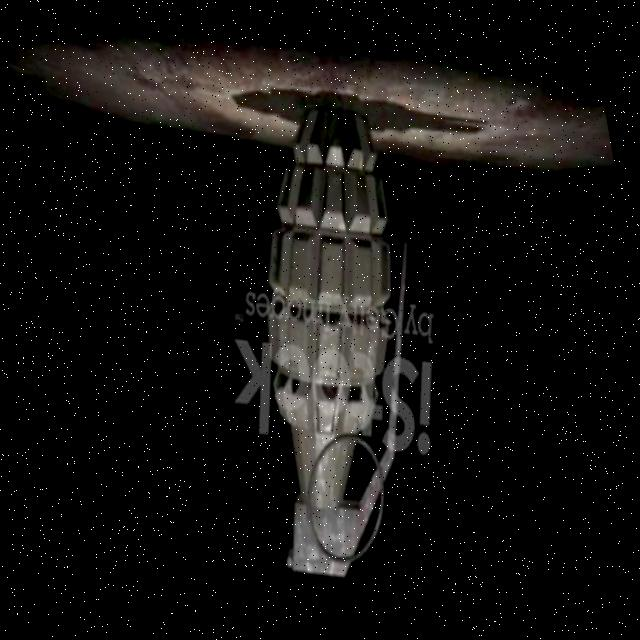grenade: (176, 72, 491, 611)
